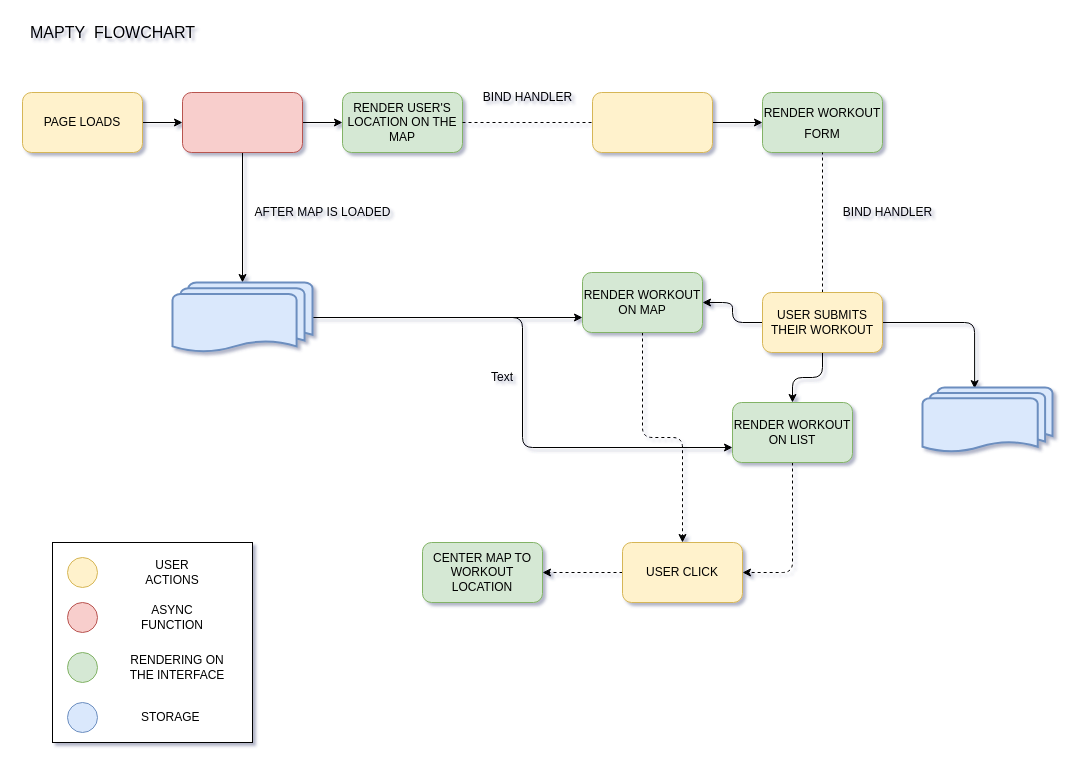
Some shapes in this 1076 by 766 pixel diagram are drawn without their labels. The shapes that lost their labels are listed below. From the top down, each one's centre as x and y in pixels, then its label:
At point (242, 122): "GET GEOLOCATION CODES OF USER".
At point (652, 122): "WHEN USER CLICKS ON ANY PART OF THE MAP".
At point (242, 317): "LOAD WORKOUTS FROM LOCAL STORAGE".
At point (987, 419): "STORE IN LOCAL STORAGE".
